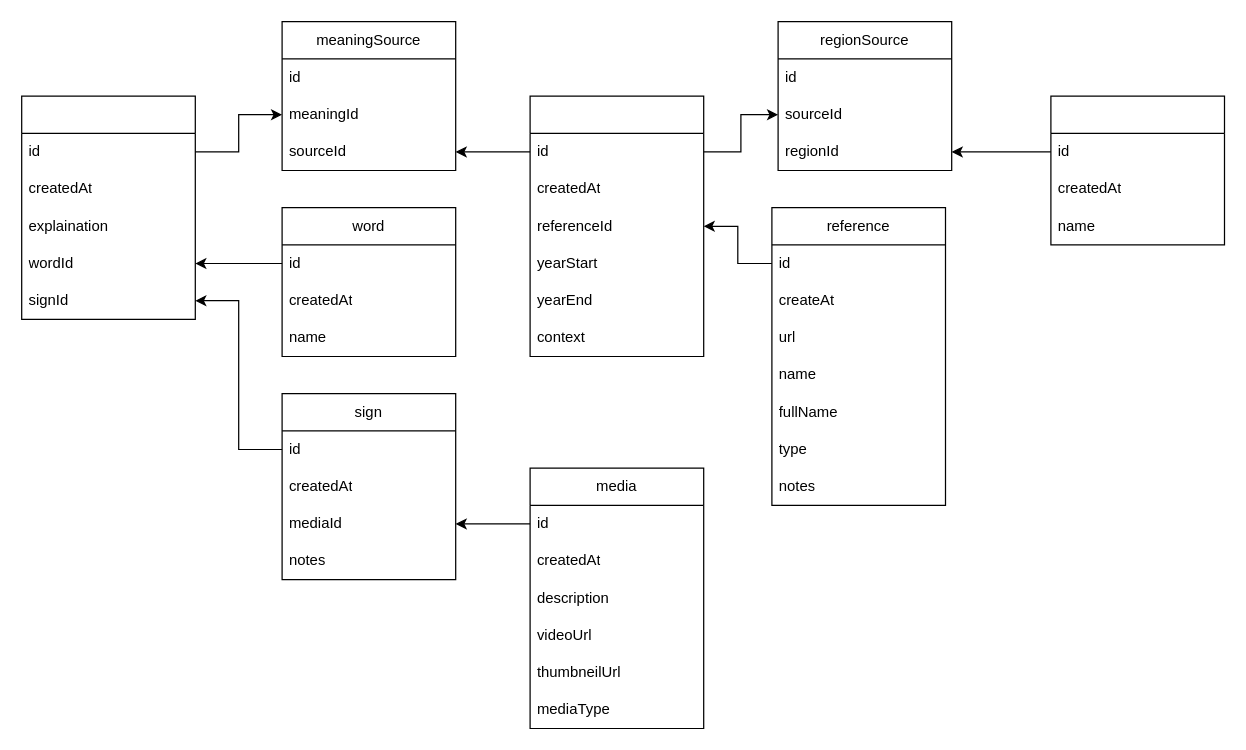
Some shapes in this 1246 by 750 pixel diagram are drawn without their labels. The box of each missing label's shape, as (x1, y1, x2, y2) in pixels:
meaning: (20, 95, 195, 319)
region: (1050, 95, 1224, 245)
source: (529, 95, 704, 356)
